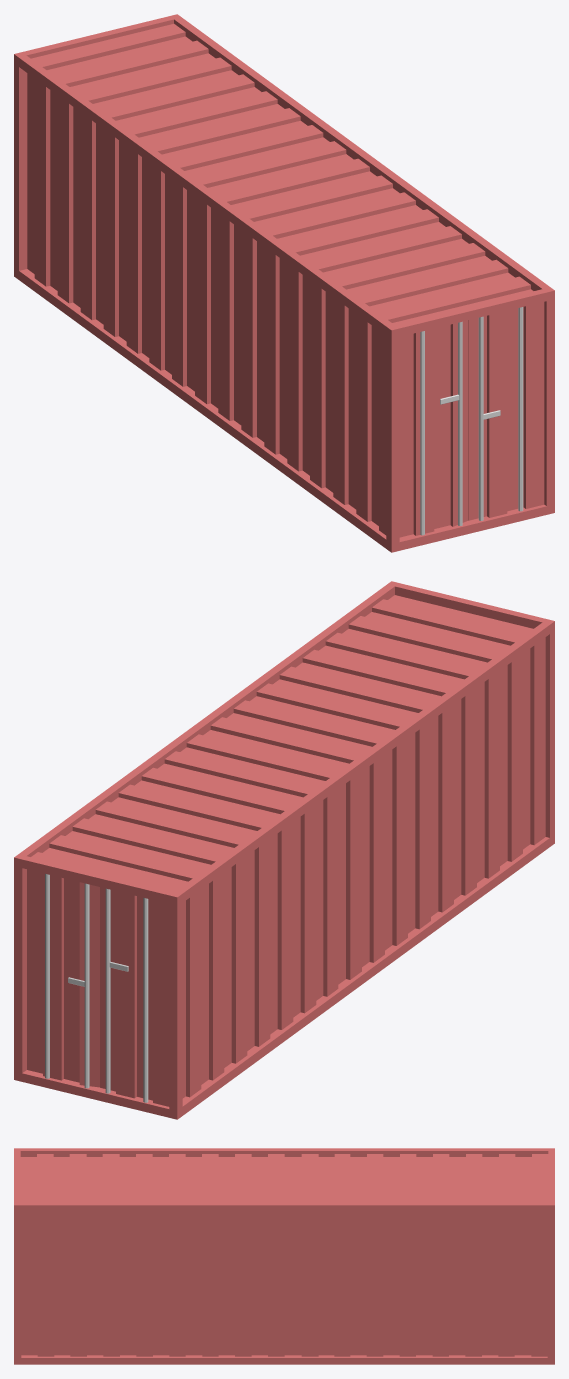
The model's file is Cargo.fbx.
3 views of the same model, one above another, from view 1: azimuth 30°, elevation 25°; view 2: azimuth 150°, elevation 25°; view 3: azimuth 270°, elevation 25° (orthographic). The views are drawn at different scales.
Visible parts, largest first — view 1: Cube; view 2: Cube; view 3: Cube.
Boxes of the visible parts, box(x1,y1,x2,y2) form: Cube: box(14, 14, 554, 552); Cube: box(14, 581, 554, 1119); Cube: box(14, 1148, 554, 1364).
Size of the model in its own units: 200 by 260 by 800.
